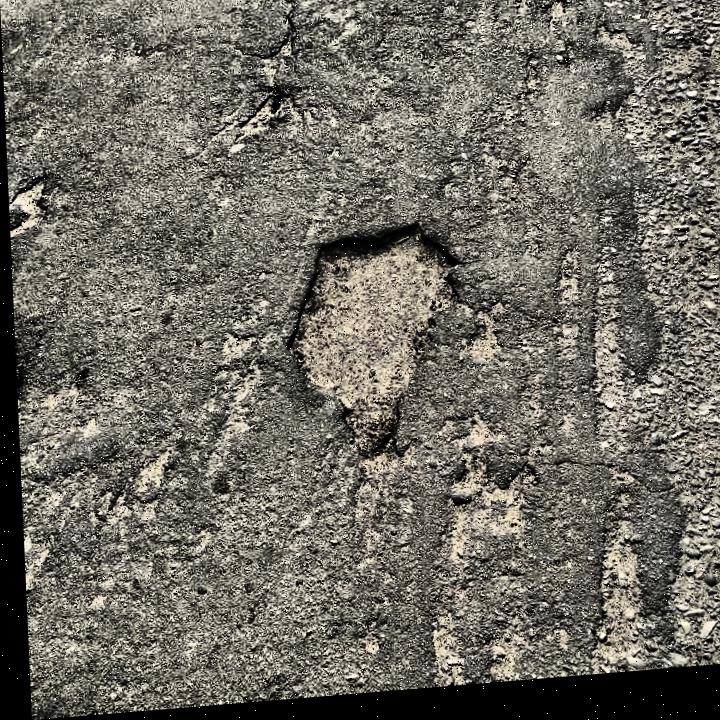pothole: (274, 222, 472, 465), (6, 175, 51, 239), (236, 93, 285, 141)
